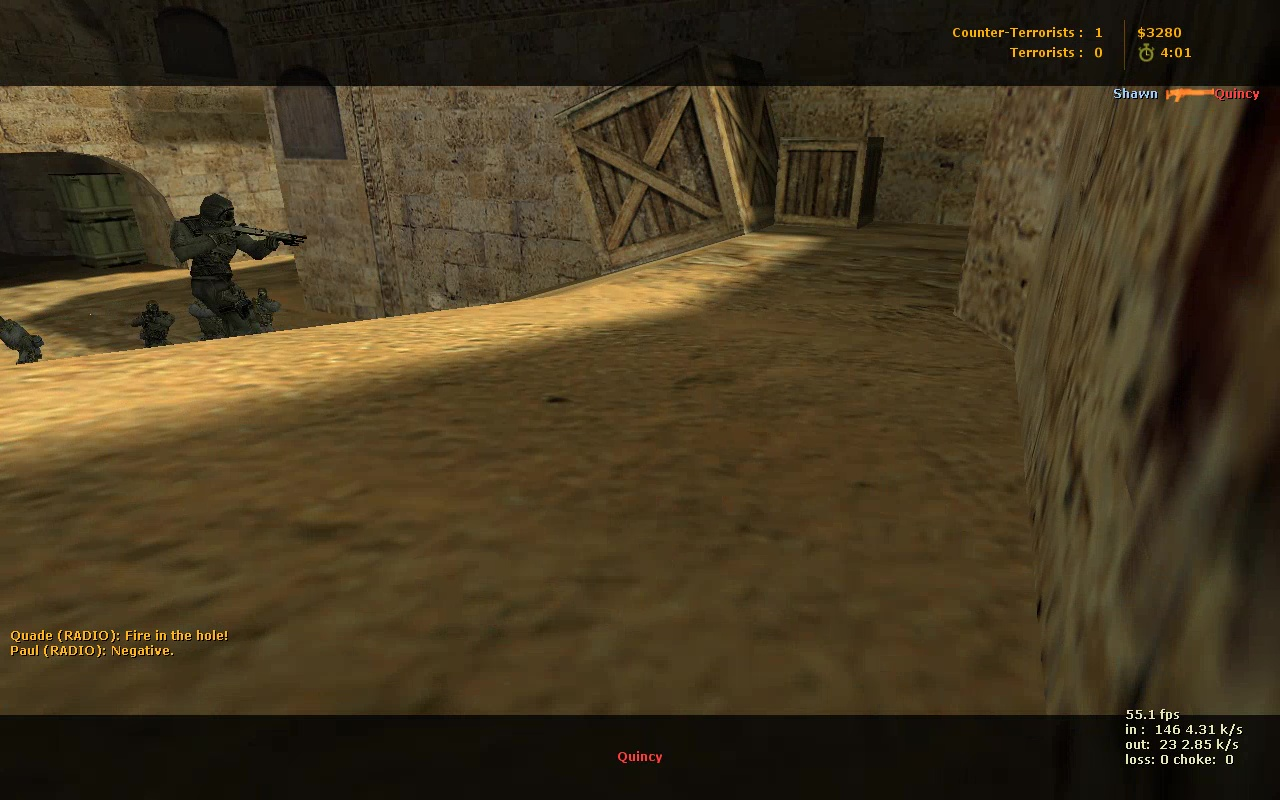ct: (169, 192, 273, 336), (131, 304, 175, 346)
